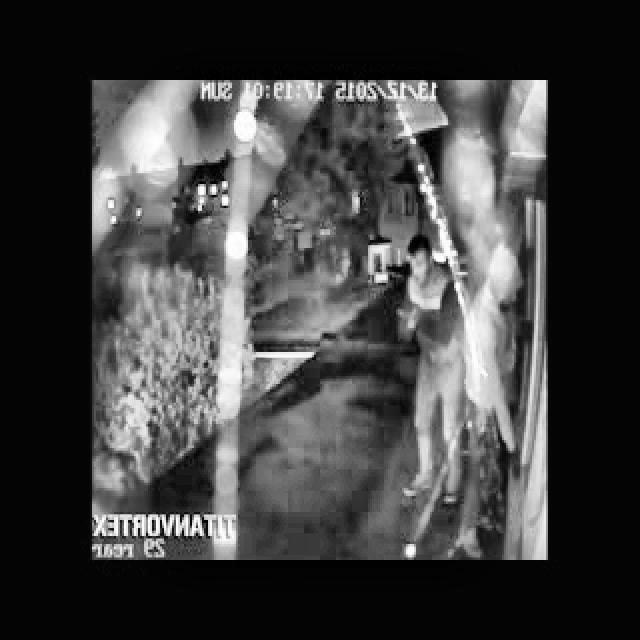burglary: (389, 226, 547, 558)
